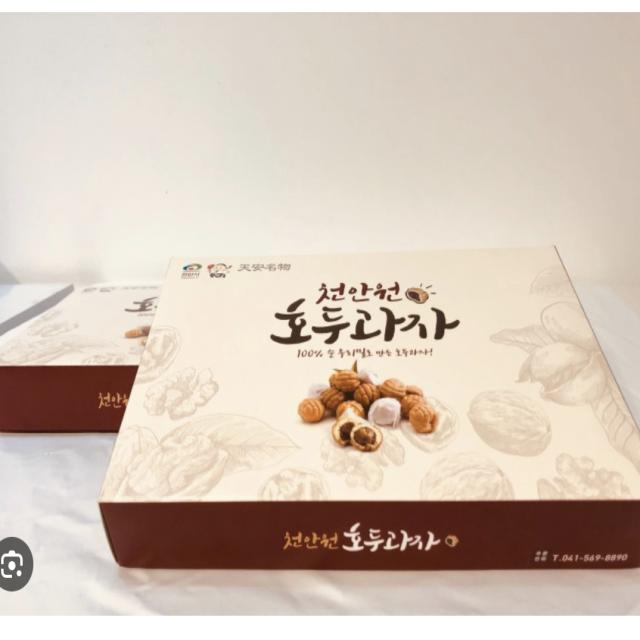biodegradable: (85, 213, 636, 583)
